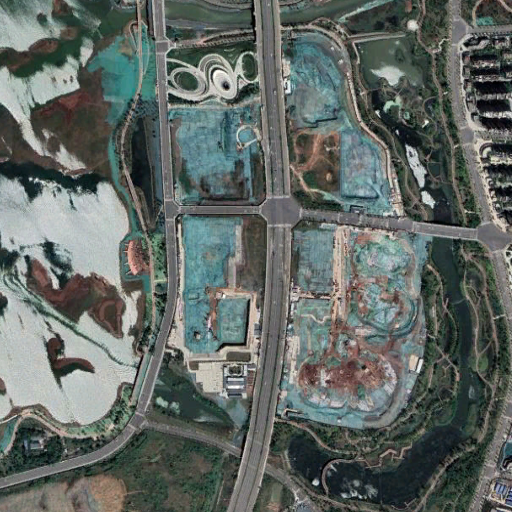cw: (276, 218, 432, 431), (280, 32, 403, 219), (166, 97, 266, 205), (181, 214, 249, 353)
